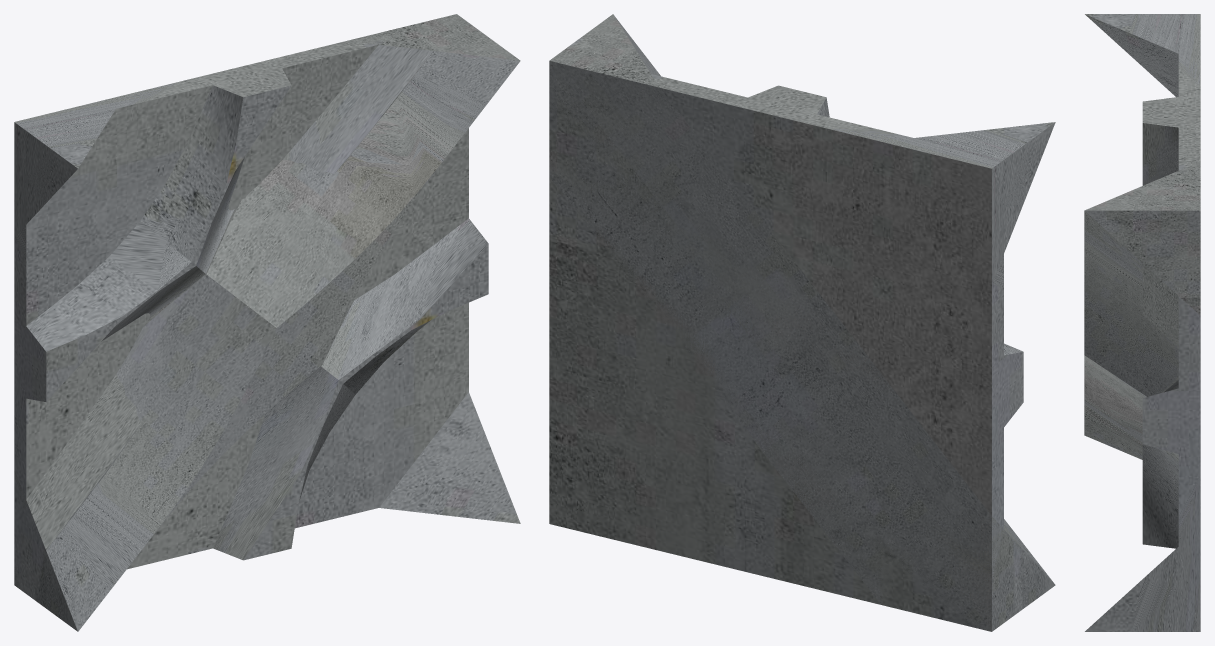
The model's file is module_U1.fbx.
3 views of the same model, side by side, from view 1: azimuth 30°, elevation 25°; view 2: azimuth 150°, elevation 25°; view 3: azimuth 270°, elevation 25° (orthographic). The views are drawn at different scales.
Visible parts, largest first — view 1: modules; view 2: modules; view 3: modules.
Part boxes in pixels (x1,y1,x2,y2): modules: [14, 14, 520, 631]; modules: [549, 14, 1055, 631]; modules: [1084, 14, 1200, 631].
Bounding box in the file's own units: 1000 × 250 × 1000.
Materials: 1 (1 with a texture image).
